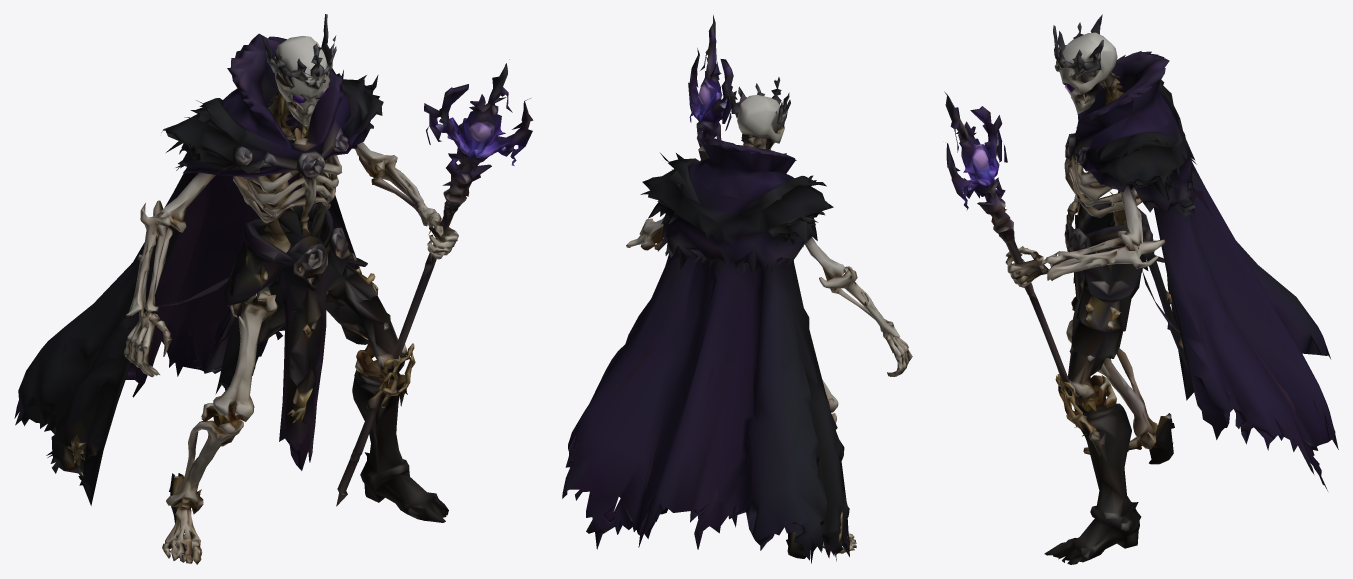
Rendered from keltaar.glb.
3 views of the same model, side by side, from view 1: azimuth 30°, elevation 25°; view 2: azimuth 150°, elevation 25°; view 3: azimuth 270°, elevation 25° (orthographic). The views are drawn at different scales.
Parts seen in each view (by area): view 1: Keltaar; view 2: Keltaar; view 3: Keltaar.
Part boxes in pixels (x1=…): Keltaar: x1=14, y1=14, x2=533, y2=564; Keltaar: x1=562, y1=15, x2=912, y2=563; Keltaar: x1=944, y1=14, x2=1338, y2=564.
Size of the model in its own units: 0.6919 by 1 by 0.7551.
